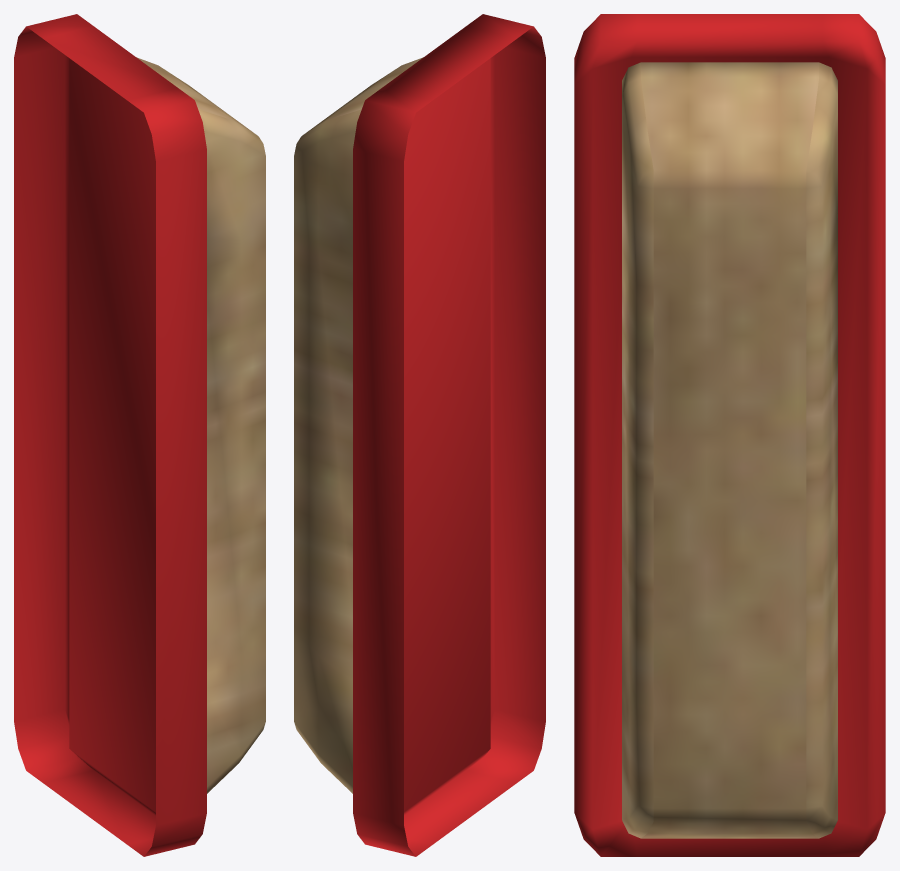
Rendered from MOD_ELE_Wall_phone_01.fbx.
3 views of the same model, side by side, from view 1: azimuth 30°, elevation 25°; view 2: azimuth 150°, elevation 25°; view 3: azimuth 270°, elevation 25° (orthographic). The views are drawn at different scales.
Visible parts, largest first — view 1: HSHP_MOD_Wall_phone, HSHP_MOD_Wall_phone_01_Phone; view 2: HSHP_MOD_Wall_phone, HSHP_MOD_Wall_phone_01_Phone; view 3: HSHP_MOD_Wall_phone_01_Phone, HSHP_MOD_Wall_phone.
Boxes of the visible parts, box(x1,y1,x2,y2) form: HSHP_MOD_Wall_phone: box(14, 14, 206, 856); HSHP_MOD_Wall_phone_01_Phone: box(136, 57, 265, 793); HSHP_MOD_Wall_phone: box(353, 14, 545, 856); HSHP_MOD_Wall_phone_01_Phone: box(294, 57, 423, 793); HSHP_MOD_Wall_phone_01_Phone: box(622, 62, 837, 838); HSHP_MOD_Wall_phone: box(574, 14, 885, 856).
Size of the model in its own units: 0.0544 by 0.2699 by 0.0933.
